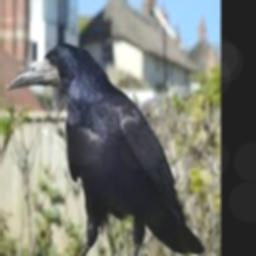Crow: (7, 39, 203, 256)
